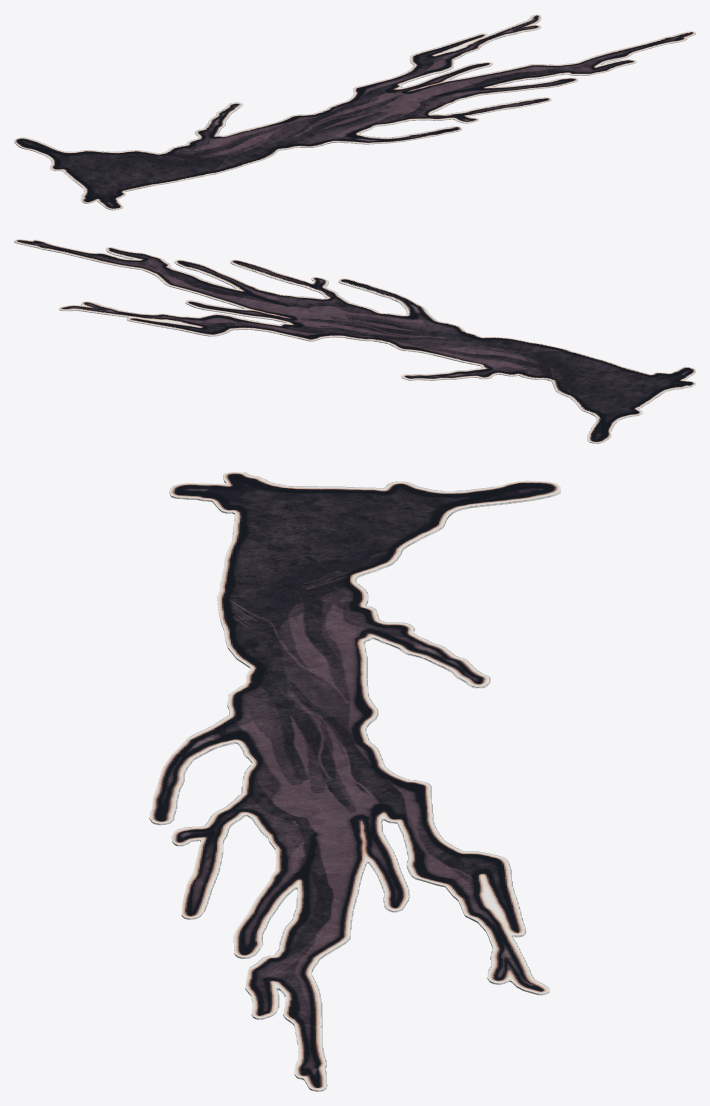
3 renders of one model, top to bottom at view 1: azimuth 30°, elevation 25°; view 2: azimuth 150°, elevation 25°; view 3: azimuth 270°, elevation 25°, orthographic. The views are drawn at different scales.
Visible parts, largest first — view 1: 臥室_樹1; view 2: 臥室_樹1; view 3: 臥室_樹1.
Boxes of the visible parts, x1=… form: 臥室_樹1: x1=14, y1=14, x2=695, y2=210; 臥室_樹1: x1=14, y1=239, x2=695, y2=443; 臥室_樹1: x1=149, y1=472, x2=560, y2=1091.
Bounding box in the file's own units: 4419 × 5 × 1242.
Materials: 1 (1 with a texture image).
